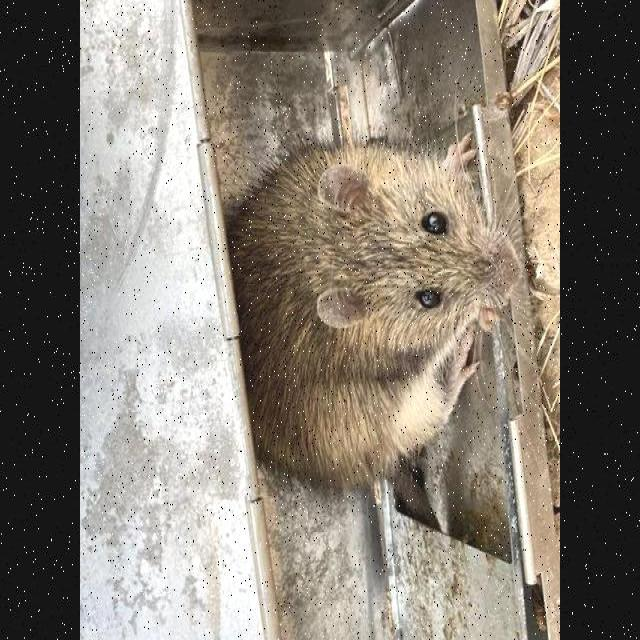rat: (228, 132, 522, 495)
